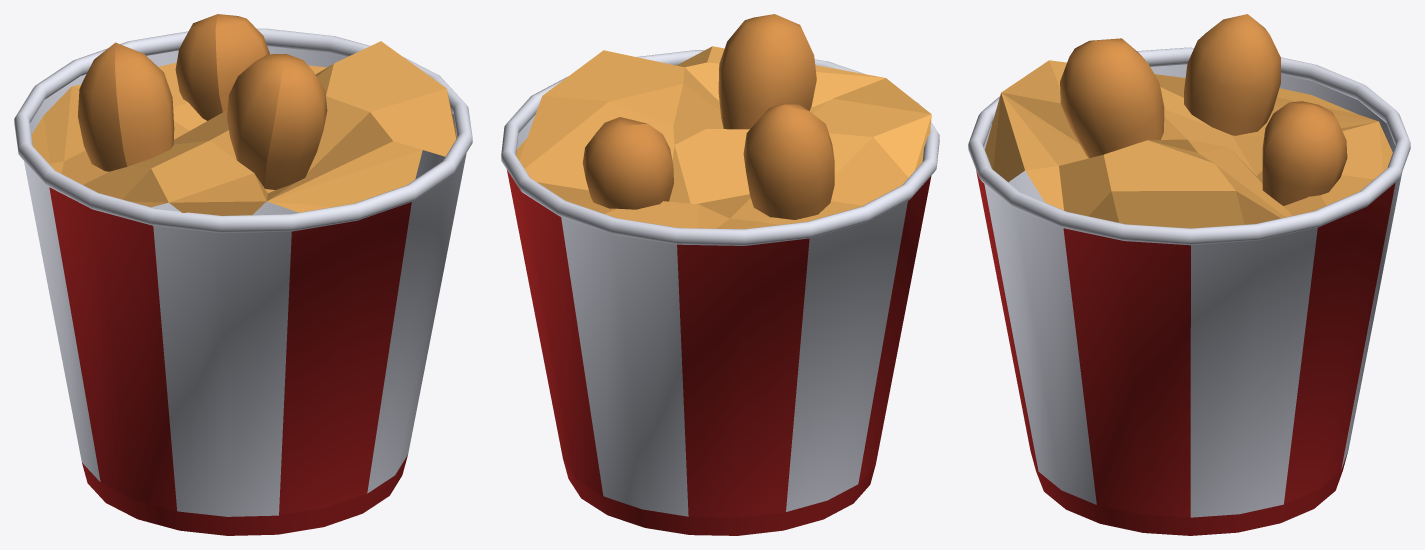
The model's file is kfc.fbx.
3 views of the same model, side by side, from view 1: azimuth 30°, elevation 25°; view 2: azimuth 150°, elevation 25°; view 3: azimuth 270°, elevation 25° (orthographic). The views are drawn at different scales.
Visible parts, largest first — view 1: Sphere; view 2: Sphere; view 3: Sphere.
Part boxes in pixels (x1=…): Sphere: x1=14, y1=14, x2=472, y2=535; Sphere: x1=501, y1=14, x2=939, y2=535; Sphere: x1=968, y1=14, x2=1410, y2=535.
Size of the model in its own units: 54.88 by 58.37 by 54.88.
